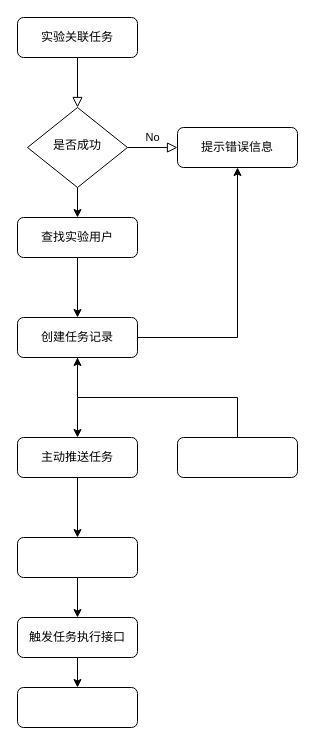
Image size: 315x745. Some labels were removed from this diagram. Each missing label, with the centre of its shape:
"app主动拉取任务" goes at pixel 237 457.
"app执行任务" goes at pixel 77 557.
"修改用户任务状态" goes at pixel 77 707.
